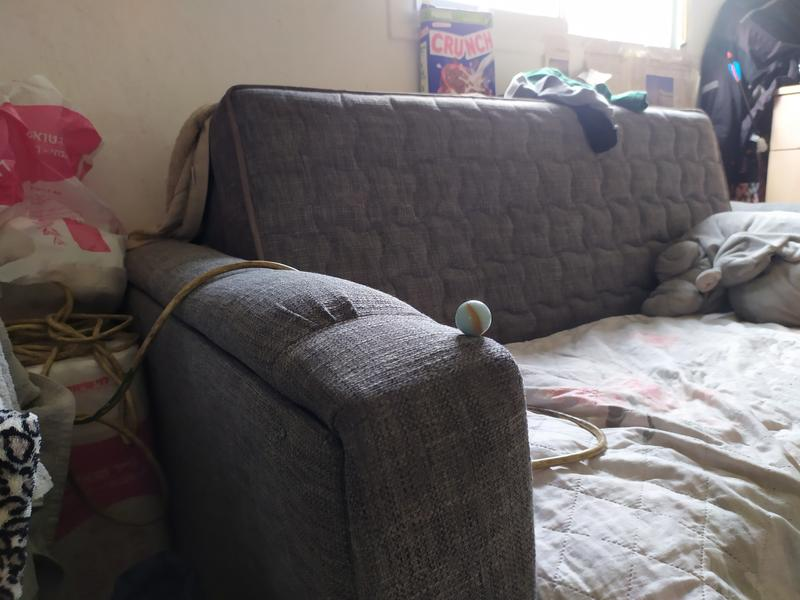Warning: (453, 298, 494, 338)
